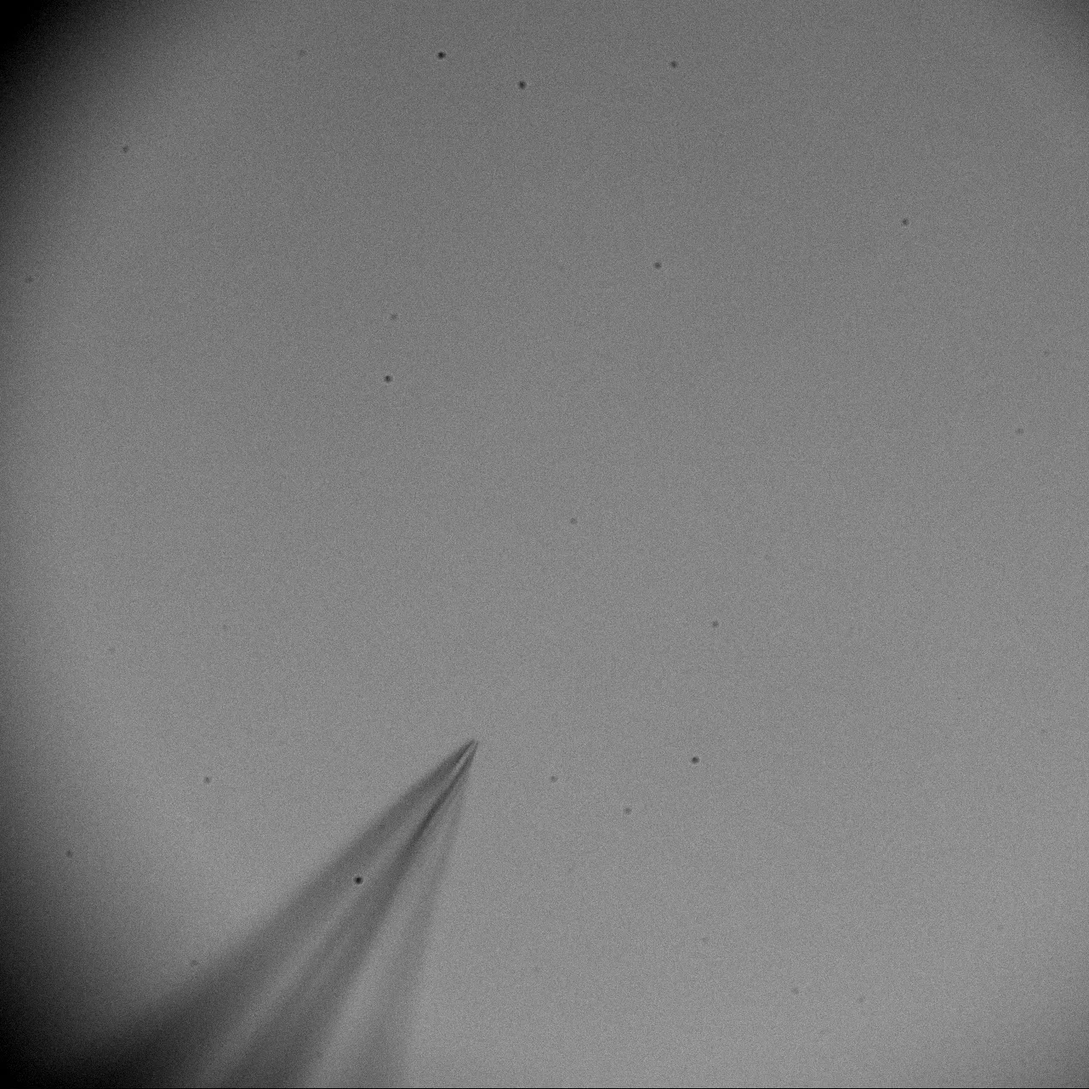tip: (397, 727, 495, 852)
